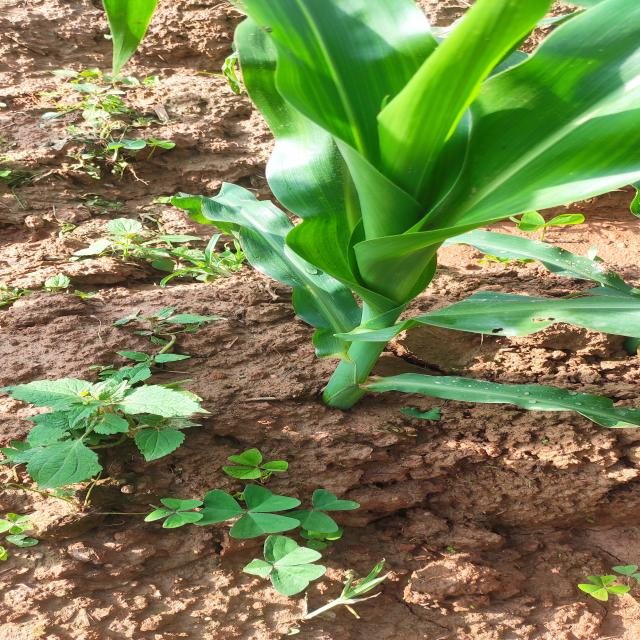maize: (128, 0, 639, 414)
weed: (0, 366, 219, 504), (188, 453, 378, 568), (73, 67, 139, 154), (565, 552, 640, 603)
